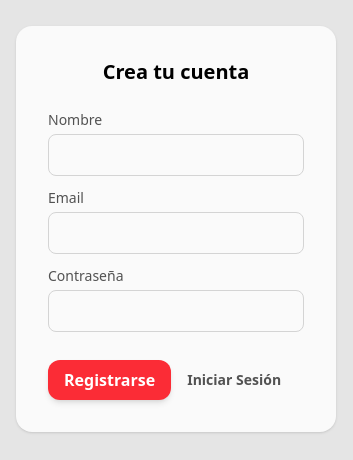
Scenario: RegisterForm › debería mostrar mensaje de éxito si el registro es correcto
In the field labelled "Nombre": (176, 155) x1=48 y1=134 x2=304 y2=176, type "Héctor"
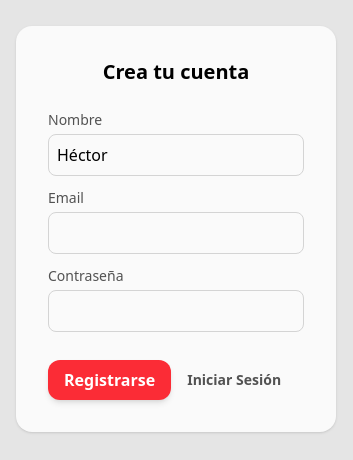
In the field labelled "Email": (176, 233) x1=48 y1=212 x2=304 y2=254, type "hector@test.com"
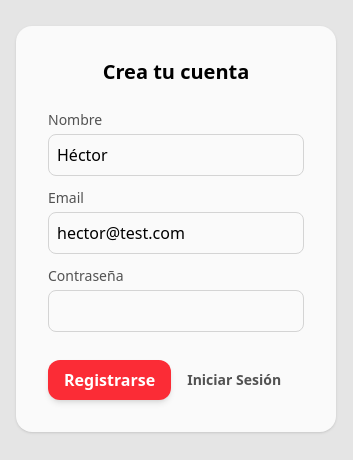
In the password field labelled "Contraseña": (176, 311) x1=48 y1=290 x2=304 y2=332, type "123456"
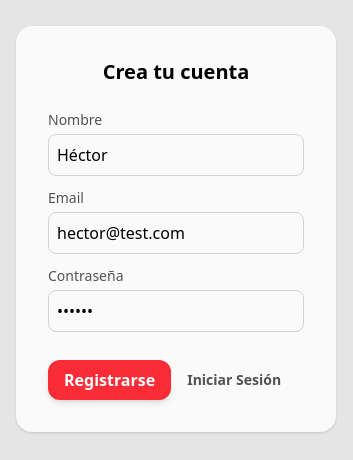
Click the button "Registrarse": (110, 380) x1=48 y1=360 x2=171 y2=400
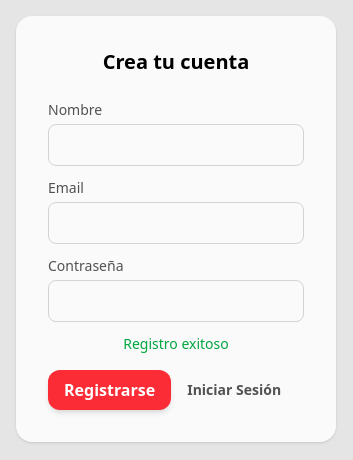
Expected: the text "Registro exitoso" is shown, x1=123 y1=334 x2=229 y2=353
